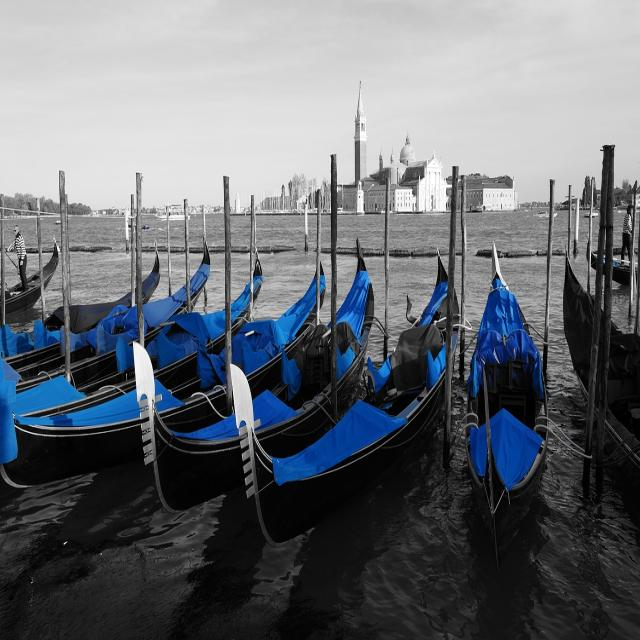boat: (0, 237, 320, 479), (219, 241, 466, 550), (123, 241, 377, 518), (462, 205, 560, 555)
